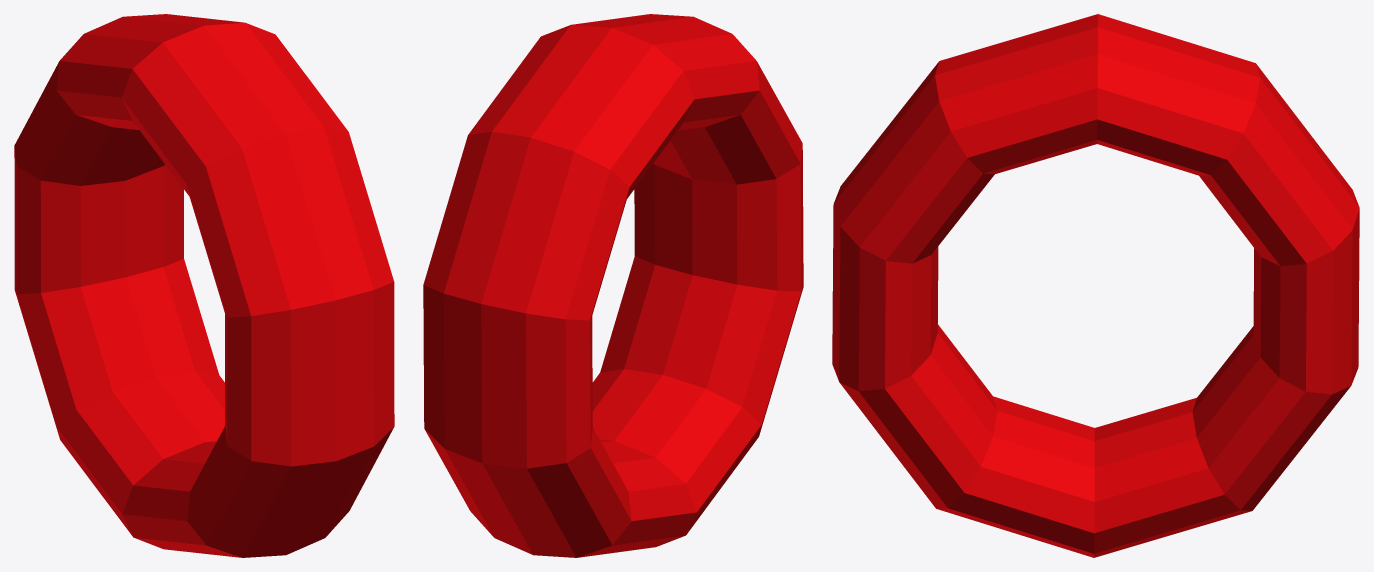
Rendered from S_LowRoueCadena.fbx.
3 views of the same model, side by side, from view 1: azimuth 30°, elevation 25°; view 2: azimuth 150°, elevation 25°; view 3: azimuth 270°, elevation 25° (orthographic).
Visible parts, largest first — view 1: S_Roue1; view 2: S_Roue1; view 3: S_Roue1.
Part boxes in pixels (x1=…): S_Roue1: x1=14, y1=14, x2=394, y2=557; S_Roue1: x1=423, y1=14, x2=803, y2=557; S_Roue1: x1=832, y1=14, x2=1359, y2=557.
Size of the model in its own units: 2.38 by 7.12 by 6.58.
